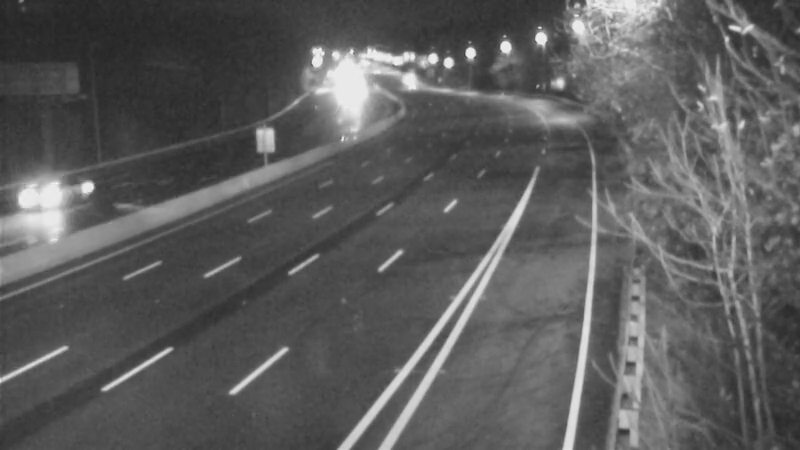vehicle: (12, 155, 92, 235)
